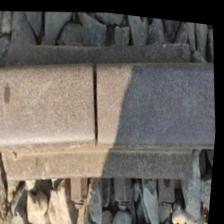person: (40, 40, 153, 164)
